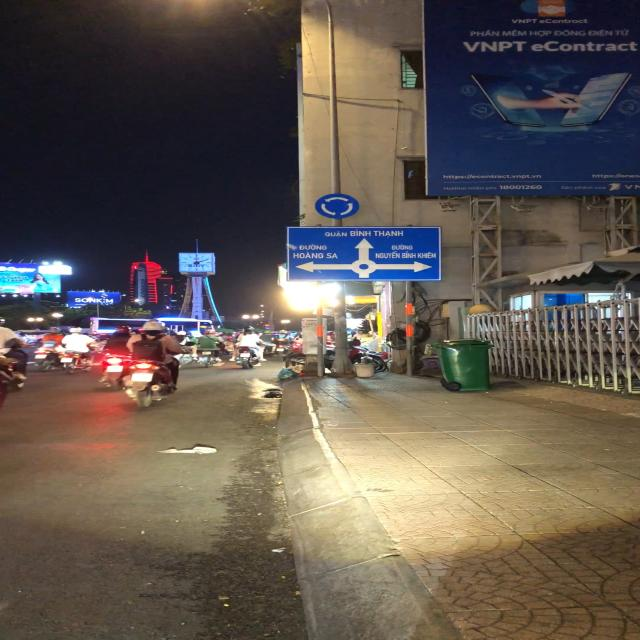Bien bao noi giao nhau chay theo vong xuyen: (315, 192, 363, 220)
